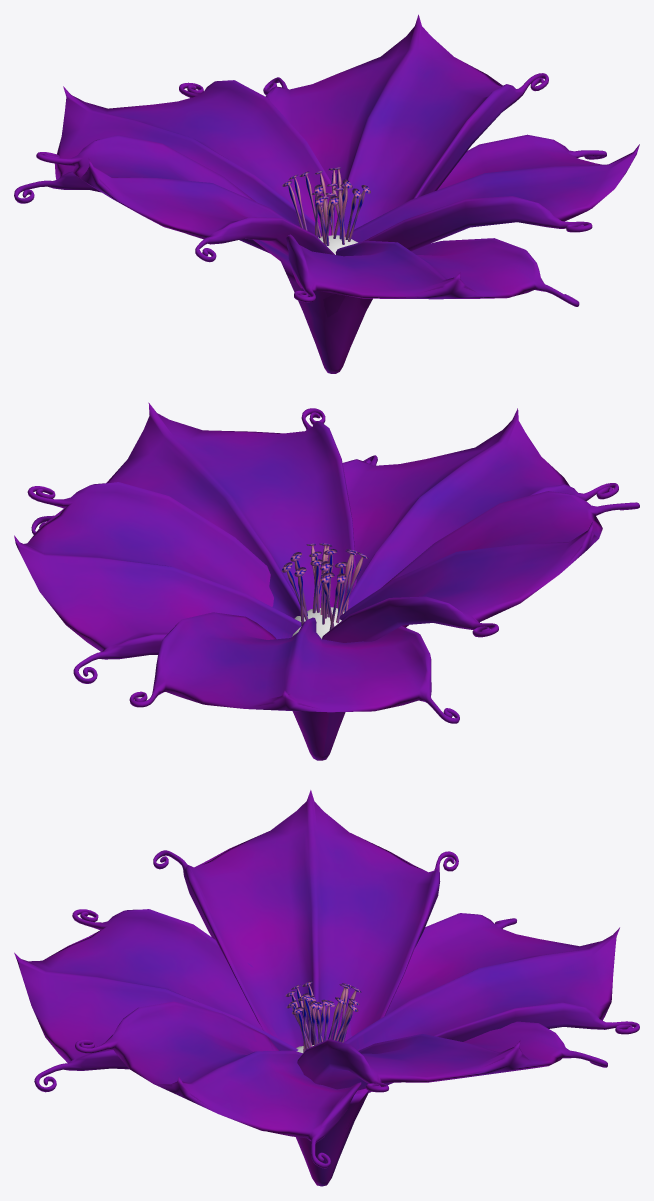
Rendered from purplemoon flowe.fbx.
3 views of the same model, one above another, from view 1: azimuth 30°, elevation 25°; view 2: azimuth 150°, elevation 25°; view 3: azimuth 270°, elevation 25° (orthographic). The views are drawn at different scales.
Parts seen in each view (by area): view 1: Cube.010, Cube.011, Cube.009, Cube.007, Cube.008, Cube.006; view 2: Cube.010, Cube.009, Cube.011, Cube.007, Cube.008, Cube.006; view 3: Cube.007, Cube.011, Cube.008, Cube.009, Cube.010, Cube.006.
Part boxes in pixels (x1,y1,x2,y2): Cube.010: [263, 14, 548, 235]; Cube.011: [14, 80, 339, 253]; Cube.009: [345, 134, 639, 251]; Cube.007: [36, 135, 334, 264]; Cube.008: [286, 234, 579, 306]; Cube.006: [280, 259, 372, 373]; Cube.010: [14, 482, 301, 683]; Cube.009: [31, 402, 356, 618]; Cube.011: [129, 612, 459, 723]; Cube.007: [322, 491, 639, 642]; Cube.008: [342, 408, 618, 627]; Cube.006: [292, 711, 345, 760]; Cube.007: [153, 790, 458, 1047]; Cube.011: [331, 913, 639, 1050]; Cube.008: [14, 909, 298, 1092]; Cube.009: [75, 1001, 361, 1168]; Cube.010: [297, 1021, 607, 1093]; Cube.006: [296, 1088, 368, 1186].
Bounding box in the file's own units: 474 × 243 × 500.
3 materials, 2 textured.
